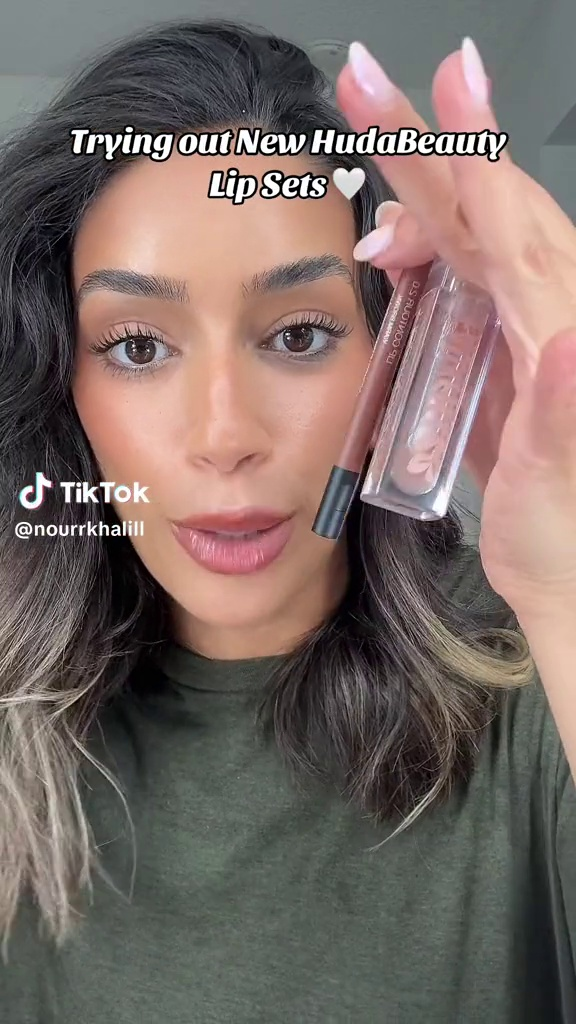train' :'yolo_data/train/images',: (301, 191, 507, 550)
